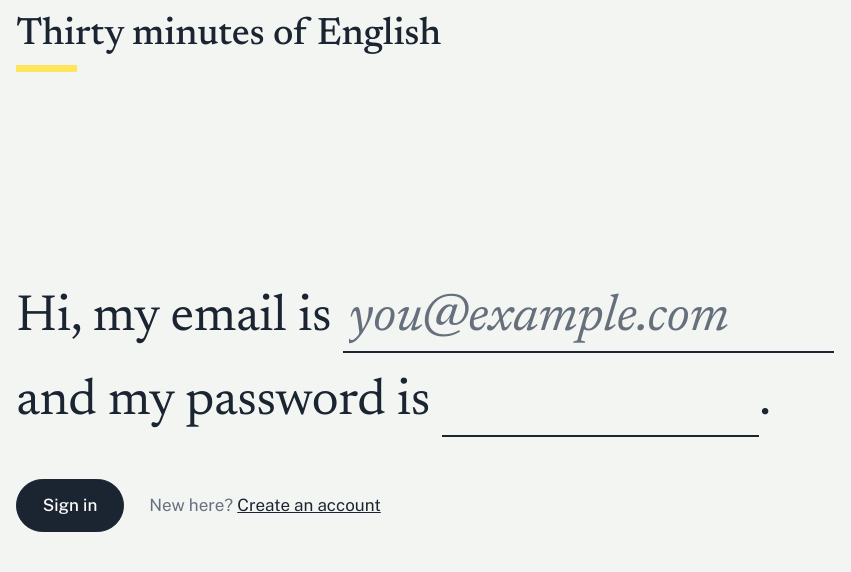
Test: a refused login shows the reason and stays on the page
The image size is (851, 572).
Type "mina@example.com" into the field named "Email" at (588, 320), box x1=343 y1=287 x2=834 y2=353
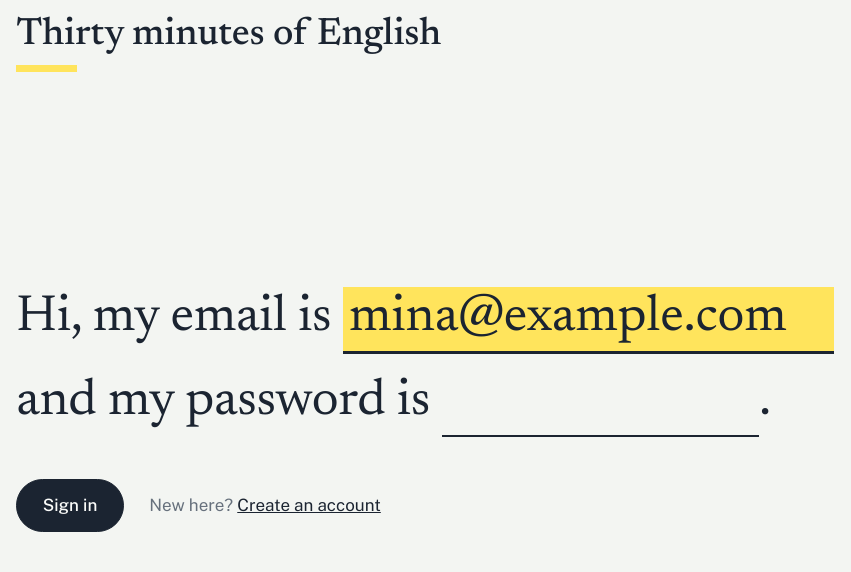
Type "wrong-one" into the password field named "Password" at (600, 404), box x1=442 y1=371 x2=759 y2=437
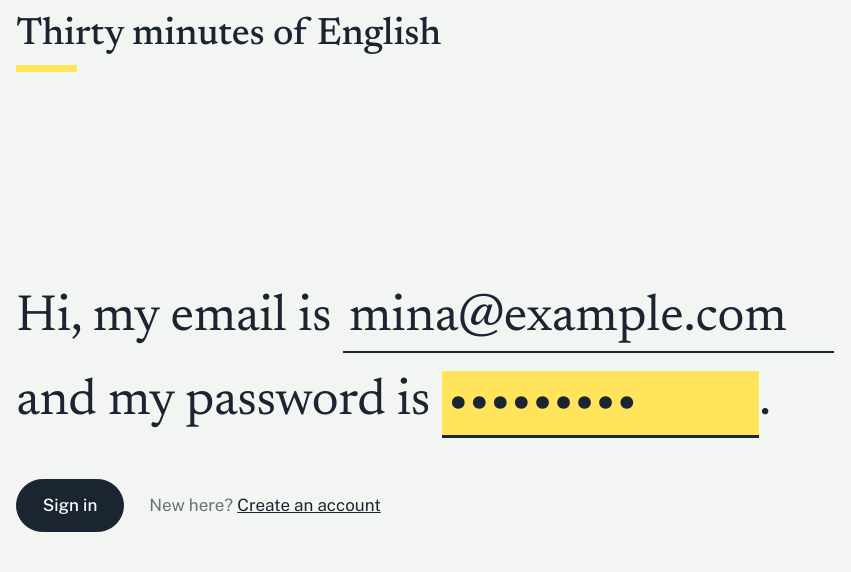
Click the button "Sign in" at (70, 505), box x1=16 y1=479 x2=124 y2=532
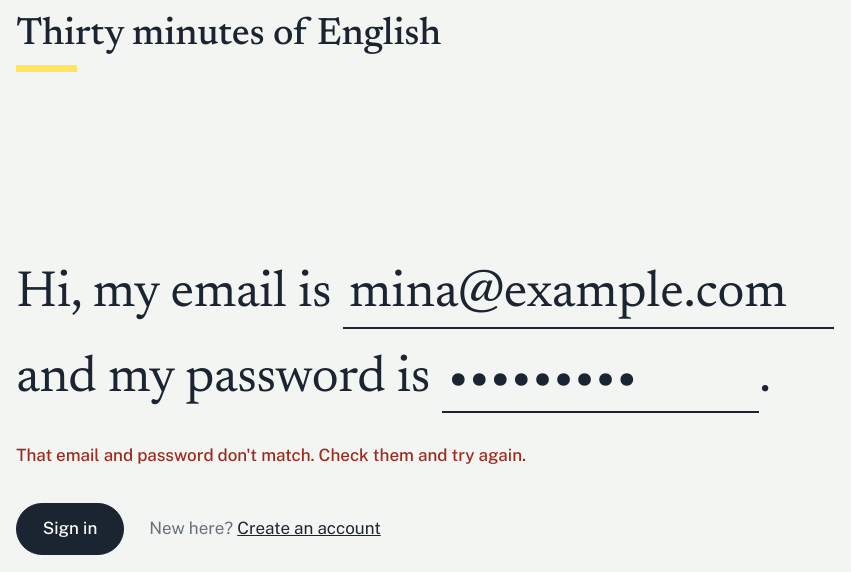
Expected: the button "Sign in" is shown, x1=16 y1=502 x2=124 y2=555
Now the message shows "That email and password don't match.", box x1=16 y1=445 x2=526 y2=465
